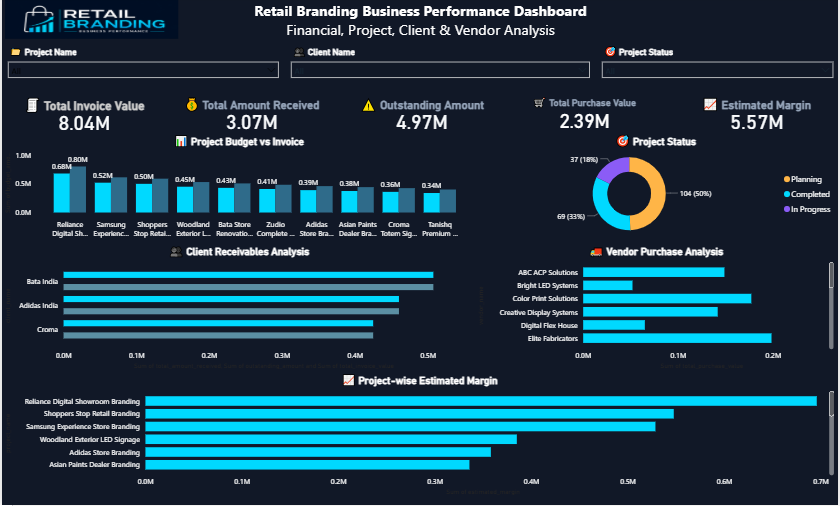

This screenshot's page, from the dashboard's own definition file:
{"tool":"powerbi","page":{"name":"Page 1","canvas":[1400,850],"ordinal":0},"visuals":[{"type":"card","title":"🧾 Total Invoice Value","fields":{"Values":["Sum(retailbrandingdb vw_powerbi_client_receivables.total_invoice_value)"]},"box":[0,165.6,276.1,61.9],"z":0},{"type":"card","title":"💰 Total Amount Received","fields":{"Values":["Sum(retailbrandingdb vw_powerbi_client_receivables.total_amount_received)"]},"box":[276.1,164,284.4,63.6],"z":1000},{"type":"card","title":"⚠️ Outstanding Amount","fields":{"Values":["Sum(retailbrandingdb vw_powerbi_client_receivables.outstanding_amount)"]},"box":[562.2,164,281.1,61.9],"z":2000},{"type":"card","title":"🛒 Total Purchase Value","fields":{"Values":["Sum(retailbrandingdb vw_powerbi_vendor_payables.total_purchase_value)"]},"box":[0,6.7,304.5,61.9],"z":3000},{"type":"clusteredColumnChart","title":"📊 Project Budget vs Invoice","fields":{"Category":["retailbrandingdb vw_powerbi_project_performance.project_name"],"Y":["Sum(retailbrandingdb vw_powerbi_project_performance.budget_amount)","Sum(retailbrandingdb vw_powerbi_project_performance.invoice_amount)"]},"box":[0,227.6,793.1,184.1],"z":4000},{"type":"donutChart","title":"🎯 Project Status","fields":{"Category":["retailbrandingdb vw_powerbi_project_performance.project_status"],"Y":["Sum(retailbrandingdb vw_powerbi_project_performance.project_id)"]},"box":[786.4,227.6,614.1,184.1],"z":5000},{"type":"clusteredBarChart","title":"👥 Client Receivables Analysis","fields":{"Category":["retailbrandingdb vw_powerbi_client_receivables.client_name"],"Y":["Sum(retailbrandingdb vw_powerbi_client_receivables.total_amount_received)","Sum(retailbrandingdb vw_powerbi_client_receivables.outstanding_amount)","Sum(retailbrandingdb vw_powerbi_client_receivables.total_invoice_value)"]},"box":[0,412.4,792.7,215.7],"z":6000},{"type":"clusteredBarChart","title":"🚚 Vendor Purchase Analysis","fields":{"Category":["retailbrandingdb vw_powerbi_vendor_payables.vendor_name"],"Y":["Sum(retailbrandingdb vw_powerbi_vendor_payables.total_purchase_value)"]},"box":[790.8,412.4,605.4,215.7],"z":7000},{"type":"card","title":"📈 Estimated Margin","fields":{"Values":["Sum(retailbrandingdb vw_powerbi_project_performance.estimated_margin)"]},"box":[1124.4,164,276.1,61.9],"z":8000},{"type":"clusteredBarChart","title":"📈 Project-wise Estimated Margin","fields":{"Category":["retailbrandingdb vw_powerbi_project_performance.project_name"],"Y":["Sum(retailbrandingdb vw_powerbi_project_performance.estimated_margin)"]},"box":[0,627.5,1397.1,210.8],"z":9000},{"type":"textbox","box":[0,0,1400.5,75.3],"z":10000},{"type":"slicer","fields":{"Values":["retailbrandingdb vw_powerbi_project_performance.project_status"]},"box":[993.9,75.3,406.6,88.7],"z":11000},{"type":"slicer","fields":{"Values":["retailbrandingdb vw_powerbi_client_receivables.client_name"]},"box":[473.5,75.3,520.4,88.7],"z":12000},{"type":"slicer","fields":{"Values":["retailbrandingdb vw_powerbi_project_performance.project_name"]},"box":[0,75.7,473,88.9],"z":13000},{"type":"image","box":[0,0,299.5,75.3],"z":14000},{"type":"card","title":"🛒 Total Purchase Value","fields":{"Values":["Sum(retailbrandingdb vw_powerbi_vendor_payables.total_purchase_value)"]},"box":[824.9,164.6,298.9,64.3],"z":15000}]}

Visuals, with their boxes in screenshot pixels (x1, y1, x2, y2), scaled from the page's 1400x850 canvas onto the 840x506 screenshot:
"🧾 Total Invoice Value" card: locate(0, 99, 166, 135)
"💰 Total Amount Received" card: locate(166, 98, 336, 135)
"⚠️ Outstanding Amount" card: locate(337, 98, 506, 134)
"🛒 Total Purchase Value" card: locate(0, 4, 183, 41)
"📊 Project Budget vs Invoice" clusteredColumnChart: locate(0, 135, 476, 245)
"🎯 Project Status" donutChart: locate(472, 135, 839, 245)
"👥 Client Receivables Analysis" clusteredBarChart: locate(0, 245, 476, 374)
"🚚 Vendor Purchase Analysis" clusteredBarChart: locate(474, 245, 838, 374)
"📈 Estimated Margin" card: locate(675, 98, 839, 134)
"📈 Project-wise Estimated Margin" clusteredBarChart: locate(0, 374, 838, 499)
textbox: locate(0, 0, 839, 45)
slicer - retailbrandingdb vw_powerbi_project_performance.project_status: locate(596, 45, 839, 98)
slicer - retailbrandingdb vw_powerbi_client_receivables.client_name: locate(284, 45, 596, 98)
slicer - retailbrandingdb vw_powerbi_project_performance.project_name: locate(0, 45, 284, 98)
image: locate(0, 0, 180, 45)
"🛒 Total Purchase Value" card: locate(495, 98, 674, 136)
